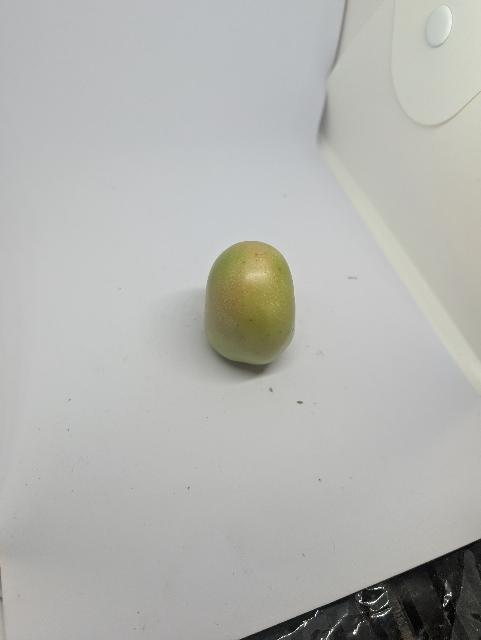breaker: (202, 238, 298, 368)
